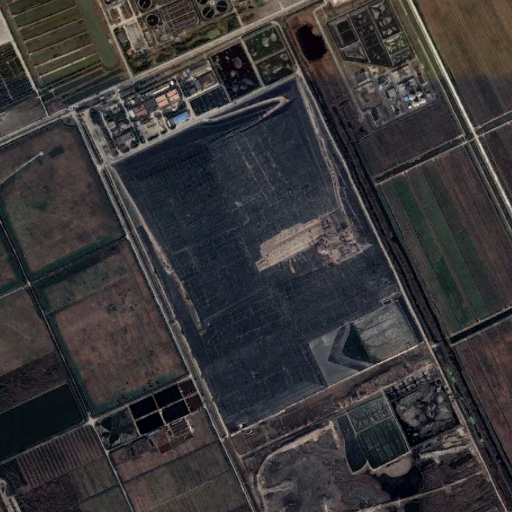lf: (116, 79, 421, 437)
